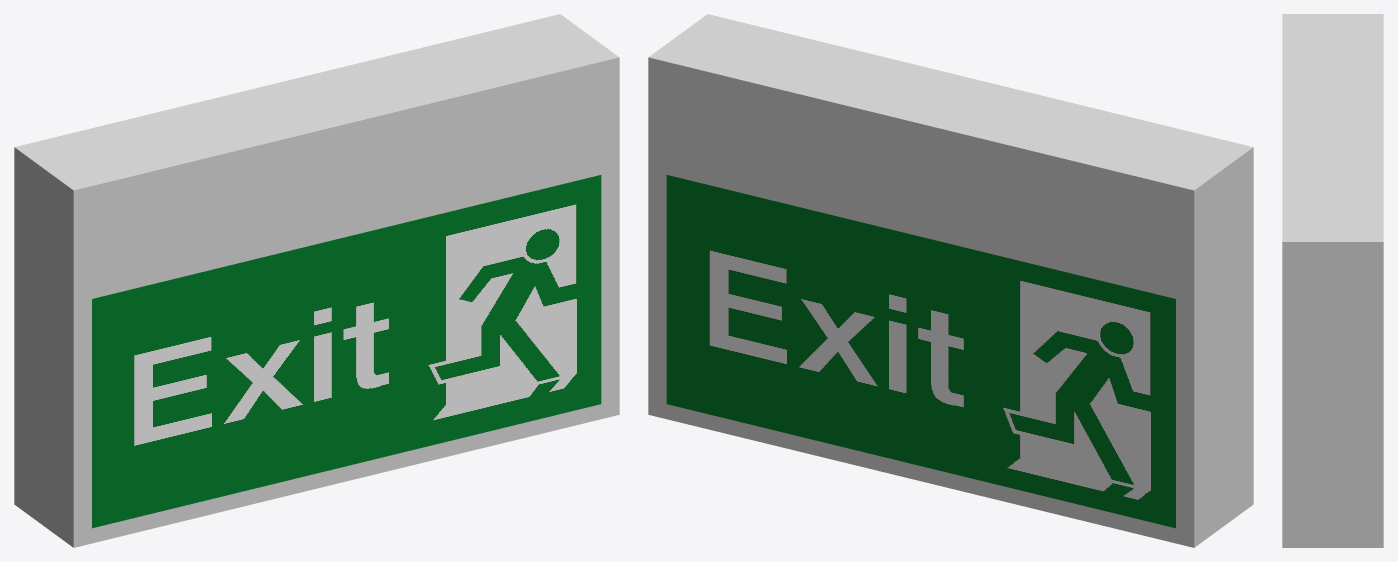
Rendered from ExitSign.fbx.
3 renders of one model, left to right at view 1: azimuth 30°, elevation 25°; view 2: azimuth 150°, elevation 25°; view 3: azimuth 270°, elevation 25°, orthographic. The views are drawn at different scales.
Visible parts, largest first — view 1: Exit; view 2: Exit; view 3: Exit.
Boxes of the visible parts, <box> form: Exit: <box>14,14,619,547</box>; Exit: <box>648,14,1253,547</box>; Exit: <box>1282,14,1383,547</box>.
Size of the model in its own units: 80.69 by 50.49 by 15.18.
